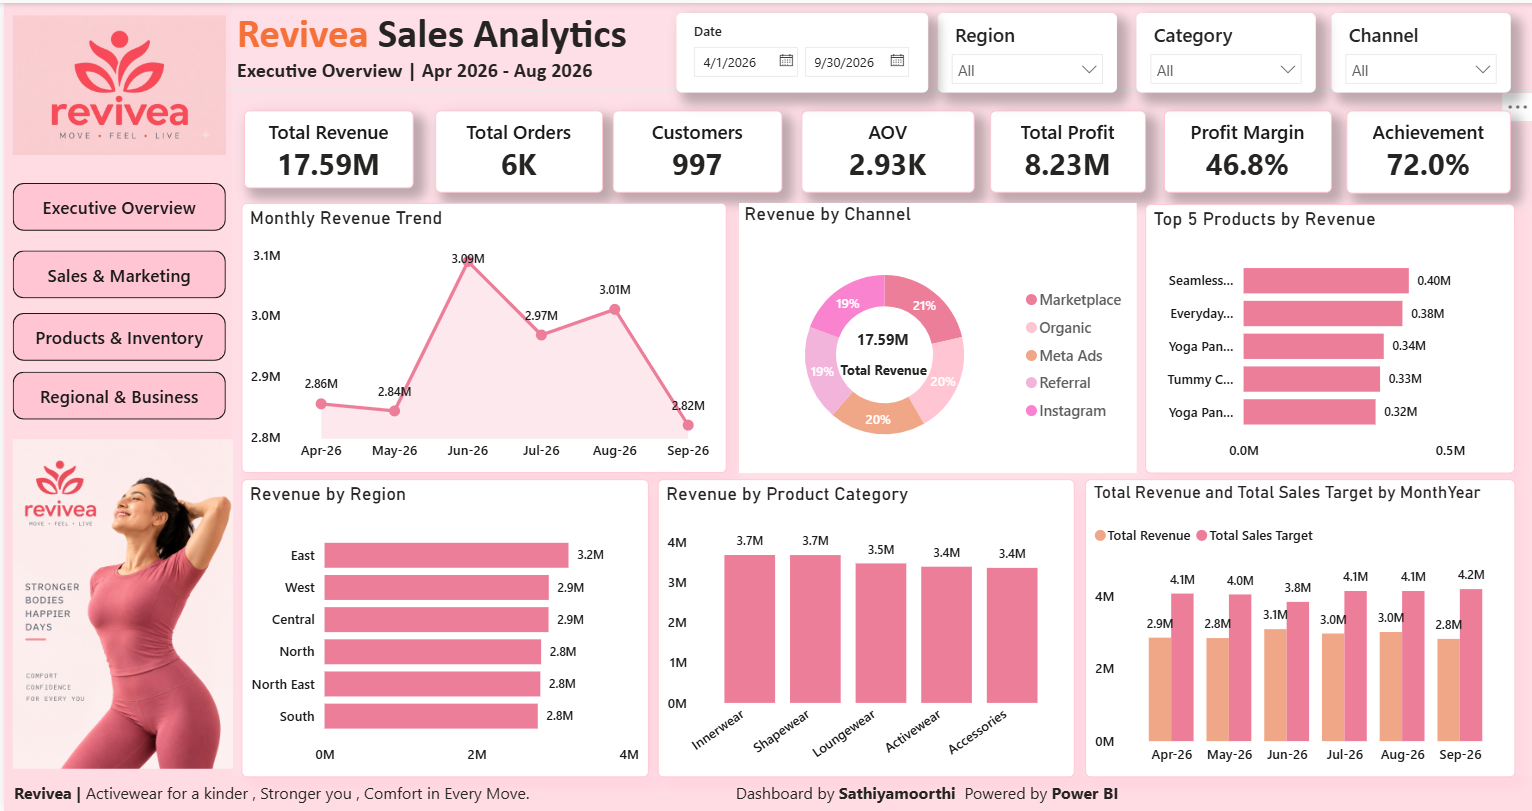

The dashboard page shown, as its layout file describes it:
{"tool":"powerbi","page":{"name":"Page 1","canvas":[1400,740],"ordinal":0},"visuals":[{"type":"shape","box":[0,0,208.8,708.8],"z":0},{"type":"textbox","box":[208.8,0,1191.2,81.2],"z":1000},{"type":"cardVisual","fields":{"Data":["Measure.Total Revenue"]},"box":[220,98.8,155,71.2],"z":2000},{"type":"cardVisual","fields":{"Data":["Measure.Total Orders"]},"box":[395,98.8,153.8,75],"z":3000},{"type":"cardVisual","fields":{"Data":["Measure.Total Customers"]},"box":[557.5,98.8,155,75],"z":4000},{"type":"cardVisual","fields":{"Data":["Measure.Average Order Value"]},"box":[730,98.8,158.8,75],"z":5000},{"type":"cardVisual","fields":{"Data":["Measure.Total Profit"]},"box":[902.5,98.8,142.5,75],"z":6000},{"type":"cardVisual","fields":{"Data":["Measure.Profit Margin %"]},"box":[1061.2,98.8,153.8,75],"z":7000},{"type":"cardVisual","fields":{"Data":["Measure.Target Achievement %"]},"box":[1228.8,98.8,150,76.2],"z":8000},{"type":"lineChart","title":"Monthly Revenue Trend","fields":{"Y":["Measure.Total Revenue"],"Category":["DimDate.MonthYear"]},"box":[217.5,182.8,443.8,247.5],"z":9000},{"type":"clusteredBarChart","title":"Revenue by Region","fields":{"Category":["DimRegion.Region"],"Y":["Measure.Total Revenue"]},"box":[217.5,436.2,372.5,272.5],"z":10000},{"type":"donutChart","title":"Revenue by Channel","fields":{"Y":["Measure.Total Revenue"],"Category":["DimChannel.Channel"]},"box":[672.5,182.8,363.8,247.5],"z":11000},{"type":"clusteredColumnChart","title":"Revenue by Product Category","fields":{"Category":["DimProduct.Category"],"Y":["Measure.Total Revenue"]},"box":[598.8,436.2,381.2,272.5],"z":12000},{"type":"clusteredBarChart","title":"Top 5 Products by Revenue","fields":{"Y":["Measure.Total Revenue"],"Category":["DimProduct.ProductName"]},"box":[1045,184,338.8,246.2],"z":13000},{"type":"clusteredColumnChart","fields":{"Category":["DimDate.MonthYear"],"Y":["Measure.Total Revenue","Measure.Total Sales Target"]},"box":[990,436.2,393.8,272.5],"z":14000},{"type":"textbox","box":[755.1,321.5,100,31.2],"z":15000},{"type":"cardVisual","fields":{"Data":["Measure.Total Revenue"]},"box":[771.1,294,66.4,33.2],"z":16000},{"type":"actionButton","title":"Executive Overview","box":[7.5,165,195,43.8],"z":17000},{"type":"actionButton","title":"Executive Overview","box":[7.5,226.2,195,43.8],"z":18000},{"type":"actionButton","title":"Executive Overview","box":[7.5,283.8,195,43.8],"z":19000},{"type":"actionButton","title":"Executive Overview","box":[7.5,337.5,195,43.8],"z":20000},{"type":"slicer","fields":{"Values":["DimRegion.Region"]},"box":[855,8.8,163.8,72.5],"z":21000},{"type":"slicer","fields":{"Values":["DimChannel.Channel"]},"box":[1215,8.8,163.8,72.5],"z":22000},{"type":"slicer","fields":{"Values":["DimProduct.Category"]},"box":[1036.2,8.8,163.8,72.5],"z":23000},{"type":"slicer","fields":{"Values":["DimDate.Date"]},"box":[615,8.8,230,72.5],"z":24000},{"type":"image","box":[7.5,0,195,150],"z":25000},{"type":"image","box":[7.5,391.2,201.2,317.5],"z":26000},{"type":"textbox","box":[0,708.8,1400,31.2],"z":27000}]}

Visuals, with their boxes in screenshot pixels (x1, y1, x2, y2), scaled from the page's 1400x740 canvas onto the 1532x811 screenshot:
shape: 0 0 228 777
textbox: 228 0 1531 89
cardVisual - Measure.Total Revenue: 241 108 410 186
cardVisual - Measure.Total Orders: 432 108 601 190
cardVisual - Measure.Total Customers: 610 108 780 190
cardVisual - Measure.Average Order Value: 799 108 973 190
cardVisual - Measure.Total Profit: 988 108 1144 190
cardVisual - Measure.Profit Margin %: 1161 108 1330 190
cardVisual - Measure.Target Achievement %: 1345 108 1509 192
"Monthly Revenue Trend" lineChart: 238 200 724 472
"Revenue by Region" clusteredBarChart: 238 478 646 777
"Revenue by Channel" donutChart: 736 200 1134 472
"Revenue by Product Category" clusteredColumnChart: 655 478 1072 777
"Top 5 Products by Revenue" clusteredBarChart: 1144 202 1514 471
clusteredColumnChart - DimDate.MonthYear x Measure.Total Revenue: 1083 478 1514 777
textbox: 826 352 936 387
cardVisual - Measure.Total Revenue: 844 322 916 359
"Executive Overview" actionButton: 8 181 222 229
"Executive Overview" actionButton: 8 248 222 296
"Executive Overview" actionButton: 8 311 222 359
"Executive Overview" actionButton: 8 370 222 418
slicer - DimRegion.Region: 936 10 1115 89
slicer - DimChannel.Channel: 1330 10 1509 89
slicer - DimProduct.Category: 1134 10 1313 89
slicer - DimDate.Date: 673 10 925 89
image: 8 0 222 164
image: 8 429 228 777
textbox: 0 777 1531 810
